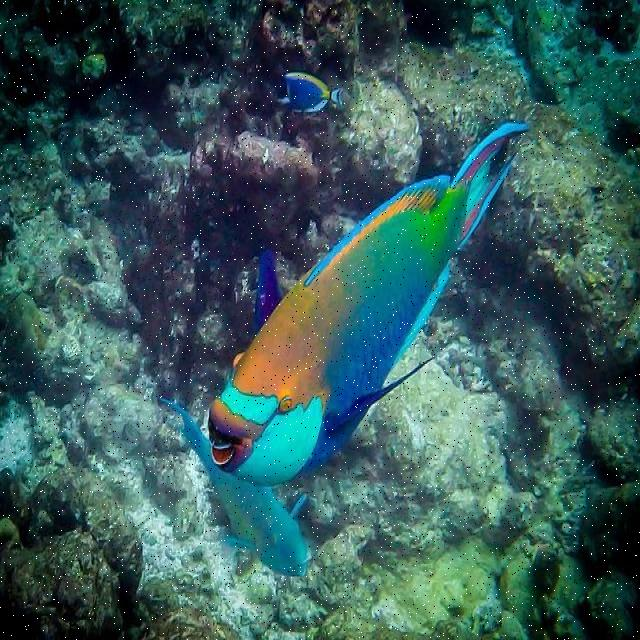fish: (208, 121, 530, 488), (270, 72, 344, 119)
